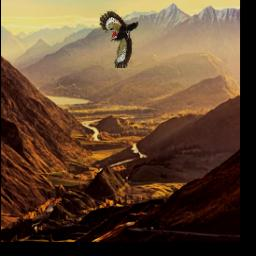Woodpecker: (99, 9, 139, 68)
